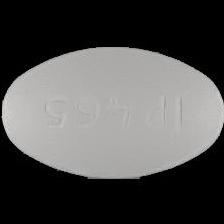53746-465: (0, 0, 224, 224)
